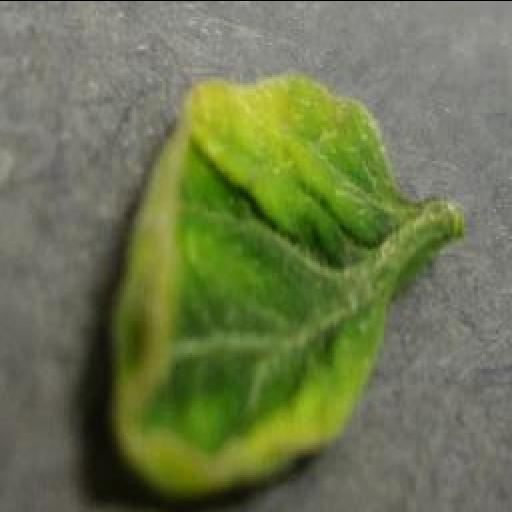disease_tomato: (106, 72, 396, 494)
